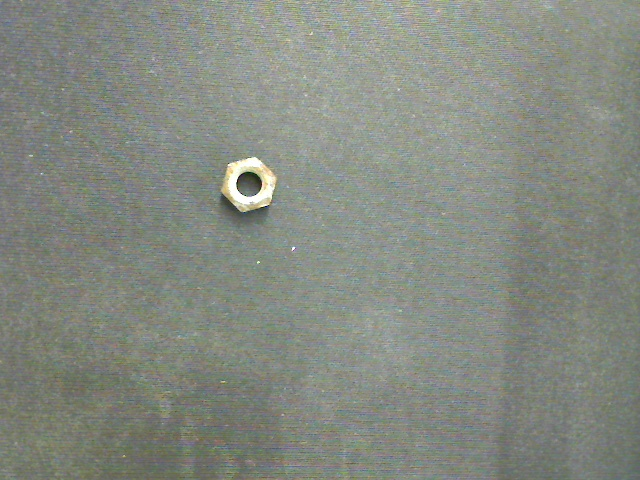Nut: (221, 157, 278, 213)
